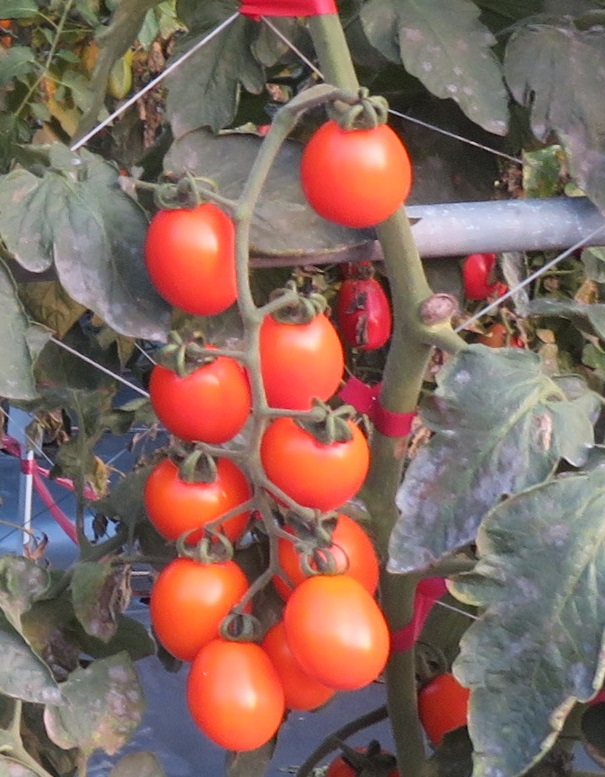orange: (298, 116, 423, 232), (283, 576, 391, 692), (151, 561, 264, 664), (143, 204, 243, 320), (189, 643, 287, 752), (144, 458, 255, 545), (146, 355, 250, 444), (270, 423, 372, 512), (260, 322, 344, 411)
